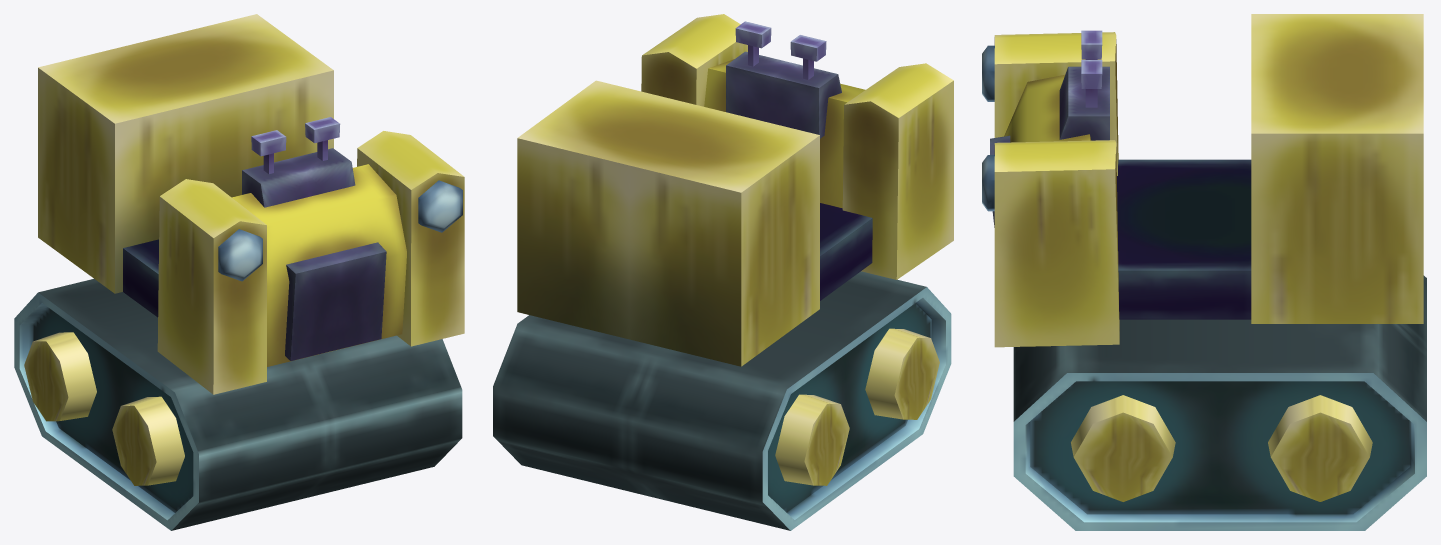
The model's file is HexCave_WorkingMachine01.fbx.
3 views of the same model, side by side, from view 1: azimuth 30°, elevation 25°; view 2: azimuth 150°, elevation 25°; view 3: azimuth 270°, elevation 25° (orthographic). The views are drawn at different scales.
Parts seen in each view (by area): view 1: HexCave_WorkingMachine01; view 2: HexCave_WorkingMachine01; view 3: HexCave_WorkingMachine01.
Part boxes in pixels (x1,y1,x2,y2): HexCave_WorkingMachine01: (14, 14, 464, 530); HexCave_WorkingMachine01: (493, 14, 953, 530); HexCave_WorkingMachine01: (982, 14, 1426, 530).
Size of the model in its own units: 236 by 278 by 276.
